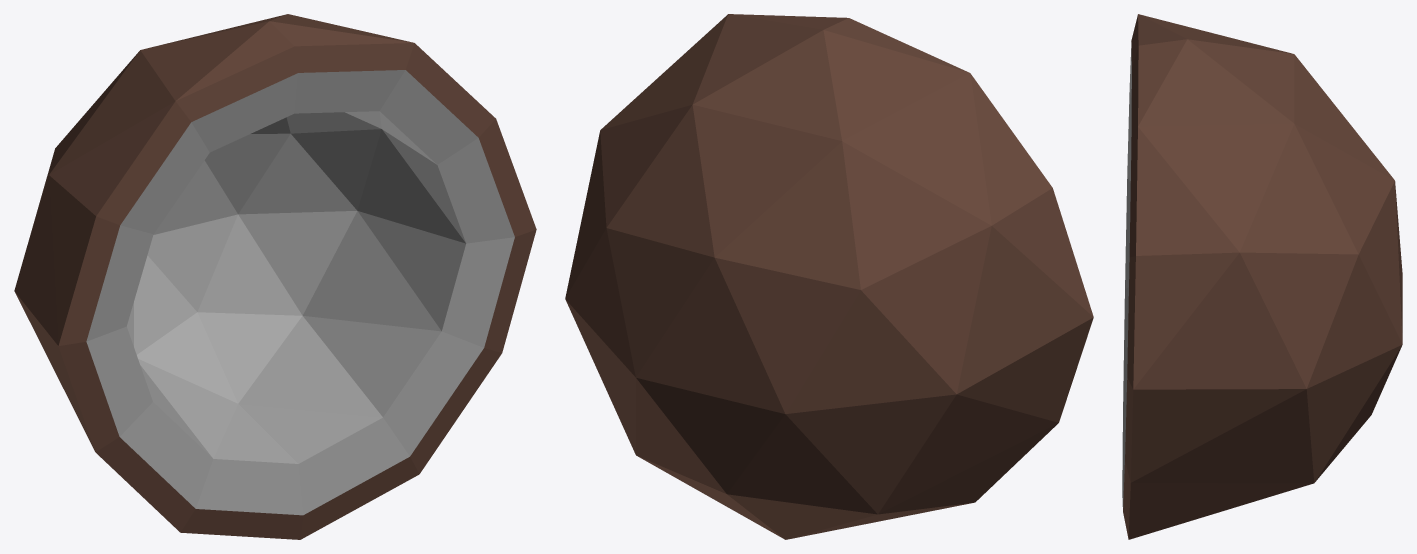
File: Coconut_Half.glb
The picture shows the model from 3 angles, left to right: view 1: azimuth 30°, elevation 25°; view 2: azimuth 150°, elevation 25°; view 3: azimuth 270°, elevation 25°; orthographic projection. The views are drawn at different scales.
Parts seen in each view (by area): view 1: White, DarkBrown; view 2: DarkBrown; view 3: DarkBrown, White.
Boxes of the visible parts, <box> form: White: <box>86,70,514,515</box>; DarkBrown: <box>14,14,536,539</box>; DarkBrown: <box>565,14,1093,539</box>; DarkBrown: <box>1123,14,1402,539</box>; White: <box>1122,42,1131,507</box>.
Size of the model in its own units: 0.7836 by 0.7769 by 0.412.
